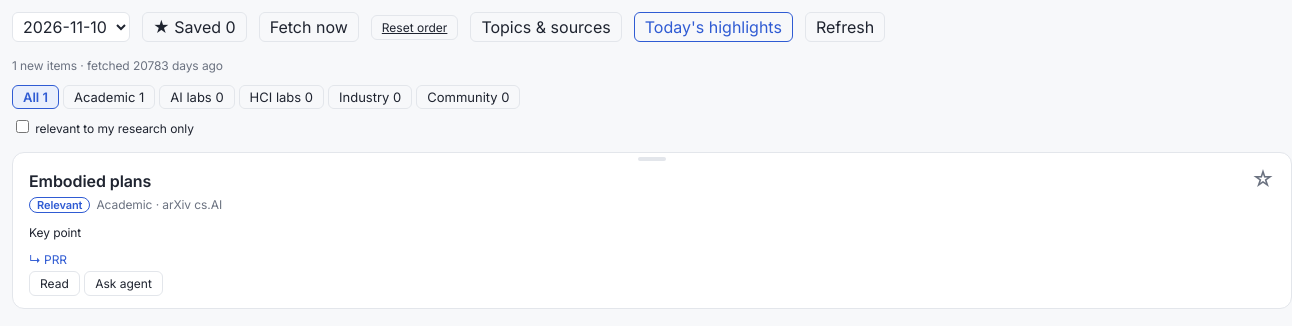
Trends save for later › stars an item, lists it under Saved, and unstars it
Expected: the text "Relevant" is shown, [29,197,90,213]
Click the button named "Save for later".
click(1263, 179)  # box [1245,161,1281,197]
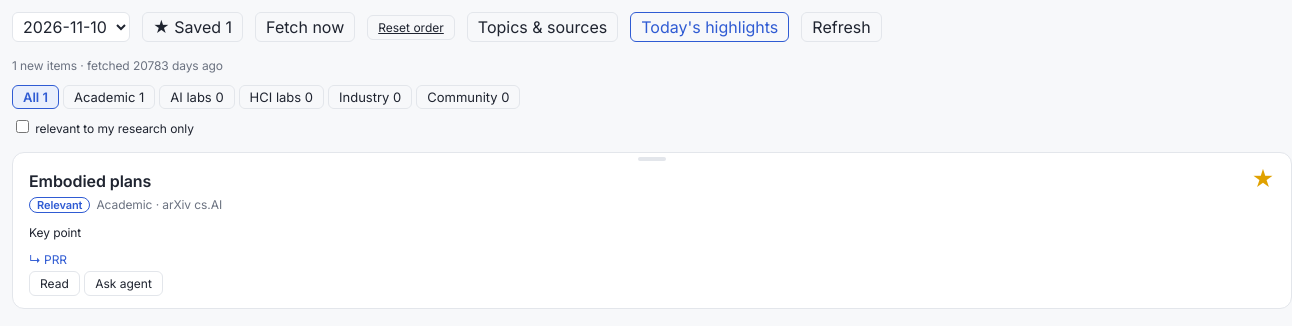
Expected: the button named "Saved — tap to remove" is shown, [1245,161,1281,197]
Expected: the button "★ Saved 1" is shown
Click the button "★ Saved 1".
click(193, 27)  # box [142,12,243,42]
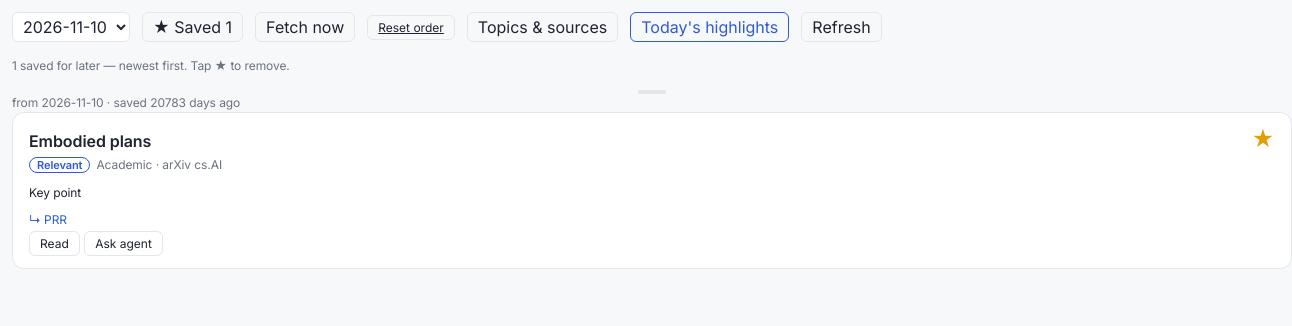
Expected: the text "from 2026-11-10 · saved 20783 days ago" is shown, [12,95,240,110]
Click the button named "Saved — tap to remove".
click(1263, 139)  # box [1245,121,1281,157]
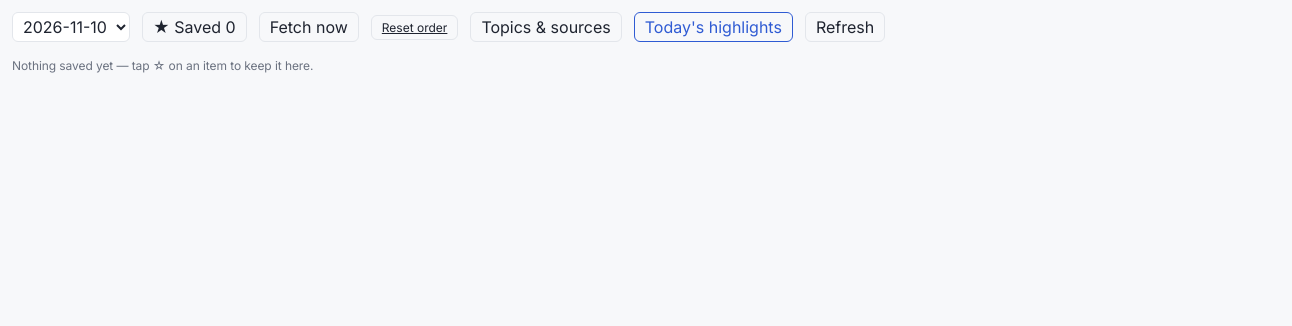
Expected: the text "Nothing saved yet — tap ☆ on an item to keep it here." is shown, [12,58,313,73]
